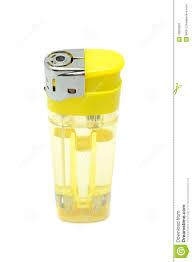lighter: (42, 48, 123, 221)
